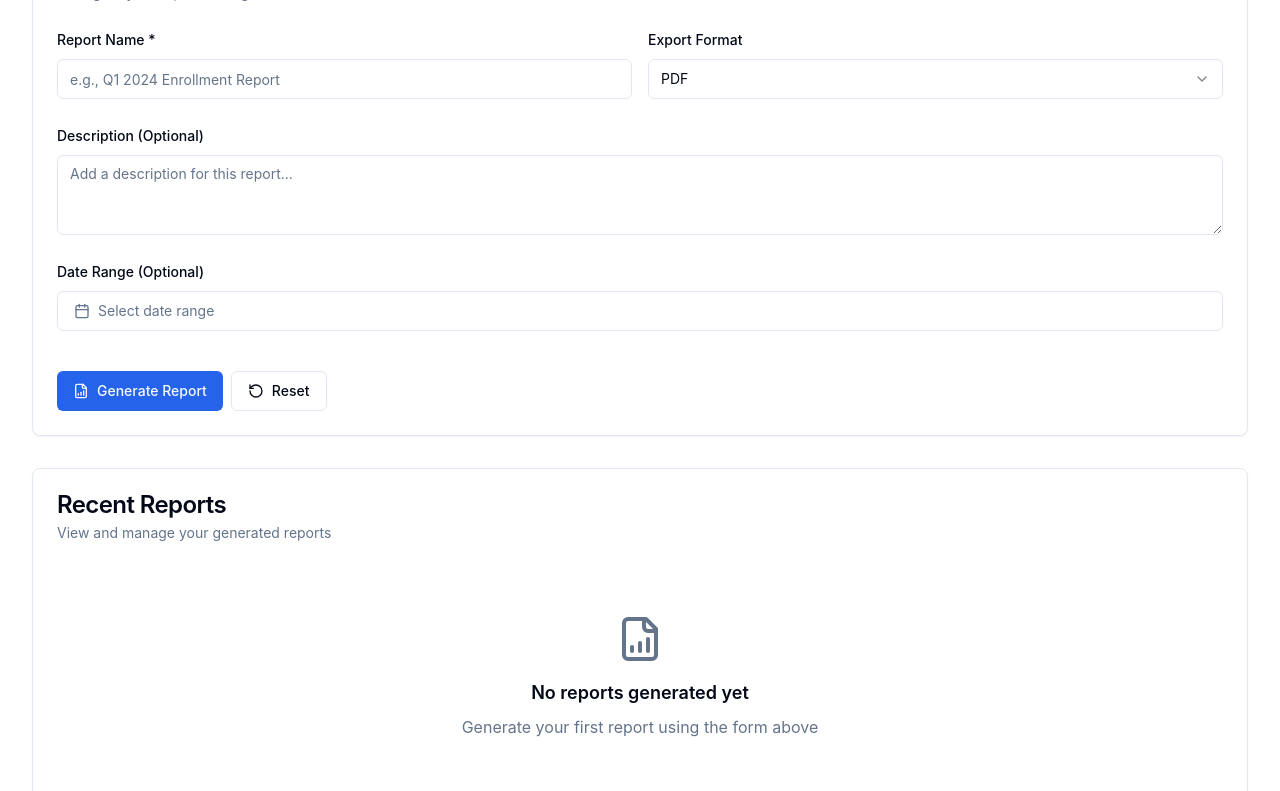
ReportBuilderPage › Report Name and Description › should show validation error when report name is empty on submit
The image size is (1280, 791).
(page scrolled)
Click the button "Generate Report": [140, 391] box [57, 371, 223, 411]
(page scrolled)
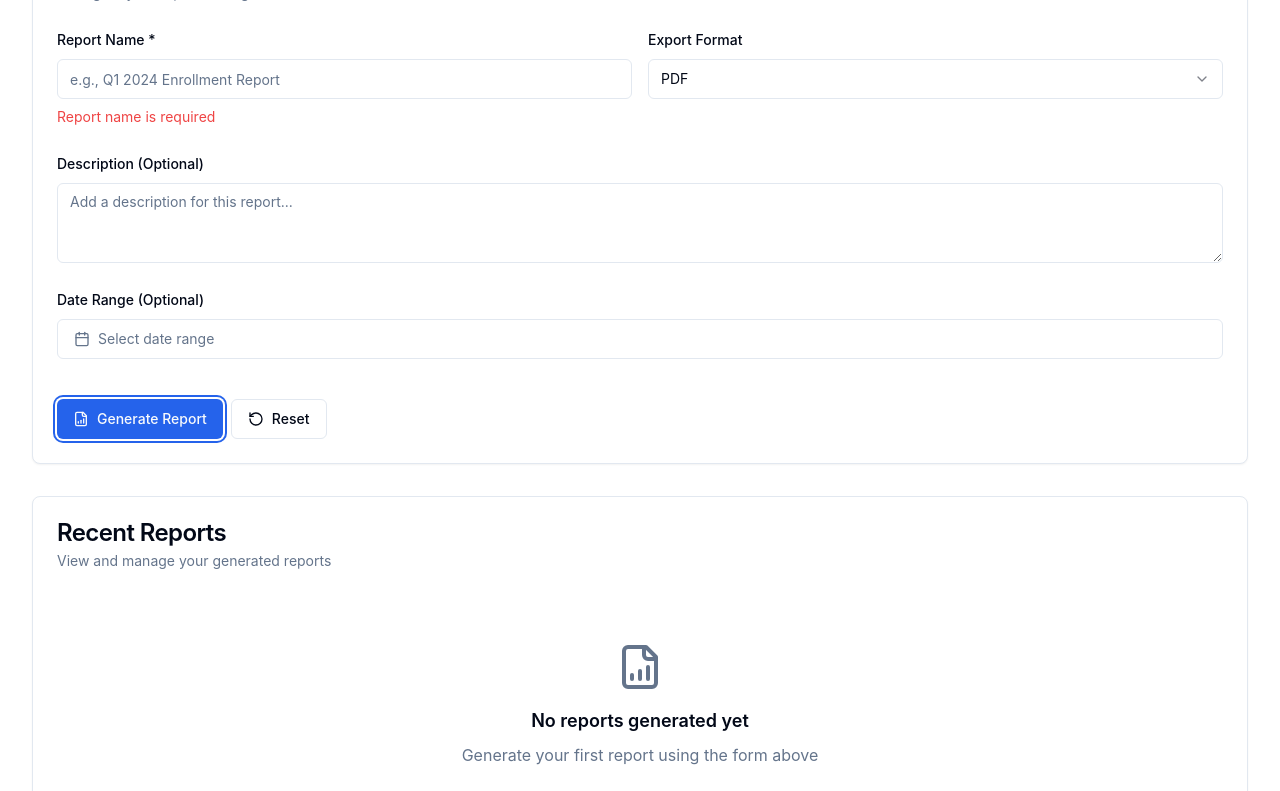
expect the text "Report name is required" is shown: met, box [57, 108, 215, 125]
